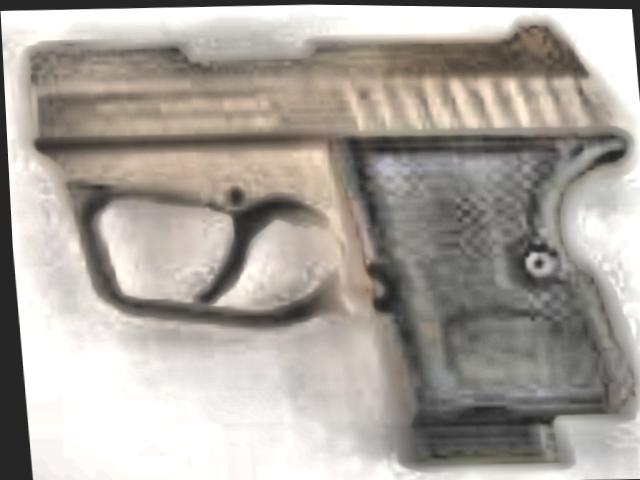pistol: (17, 2, 640, 480)
